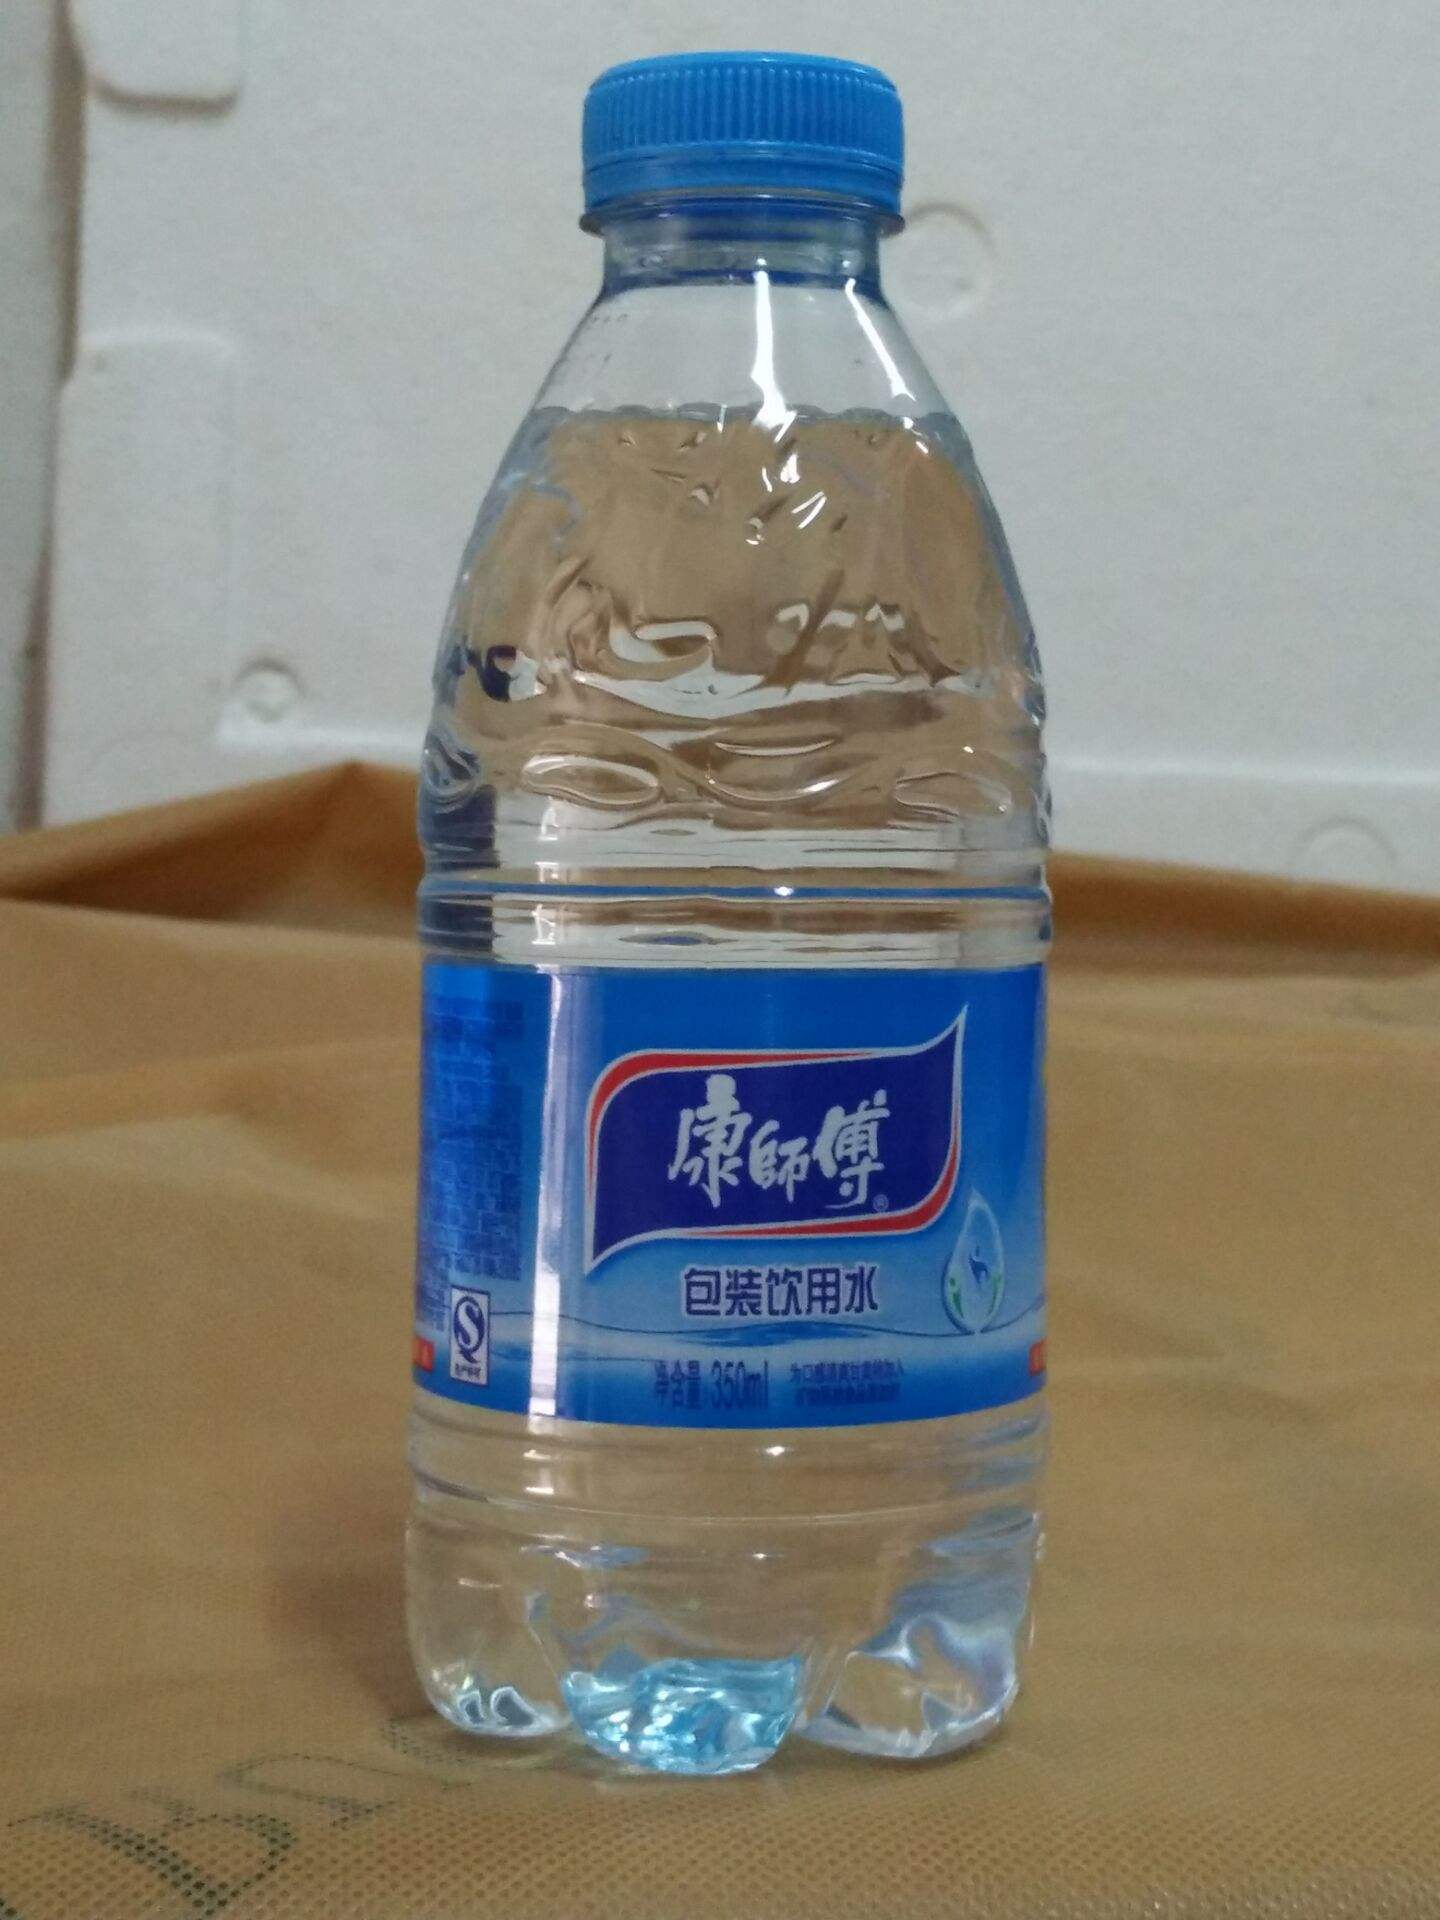amwater: (377, 30, 1107, 1819)
